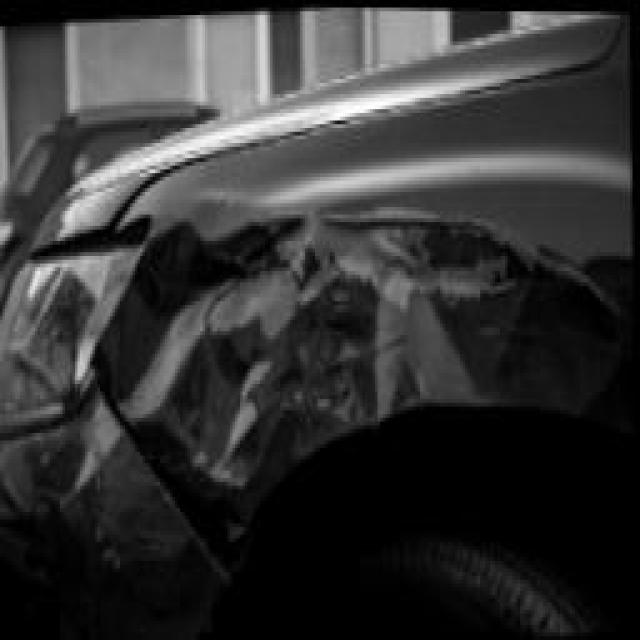Bumper: (0, 383, 229, 640)
Fender: (95, 73, 629, 571)
